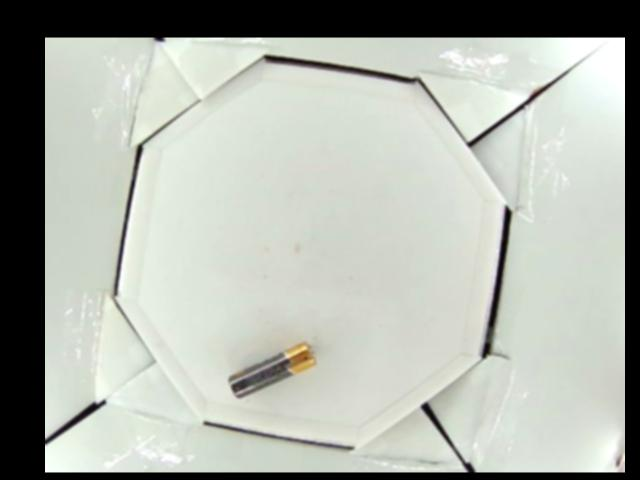Battery: (226, 341, 316, 397)
